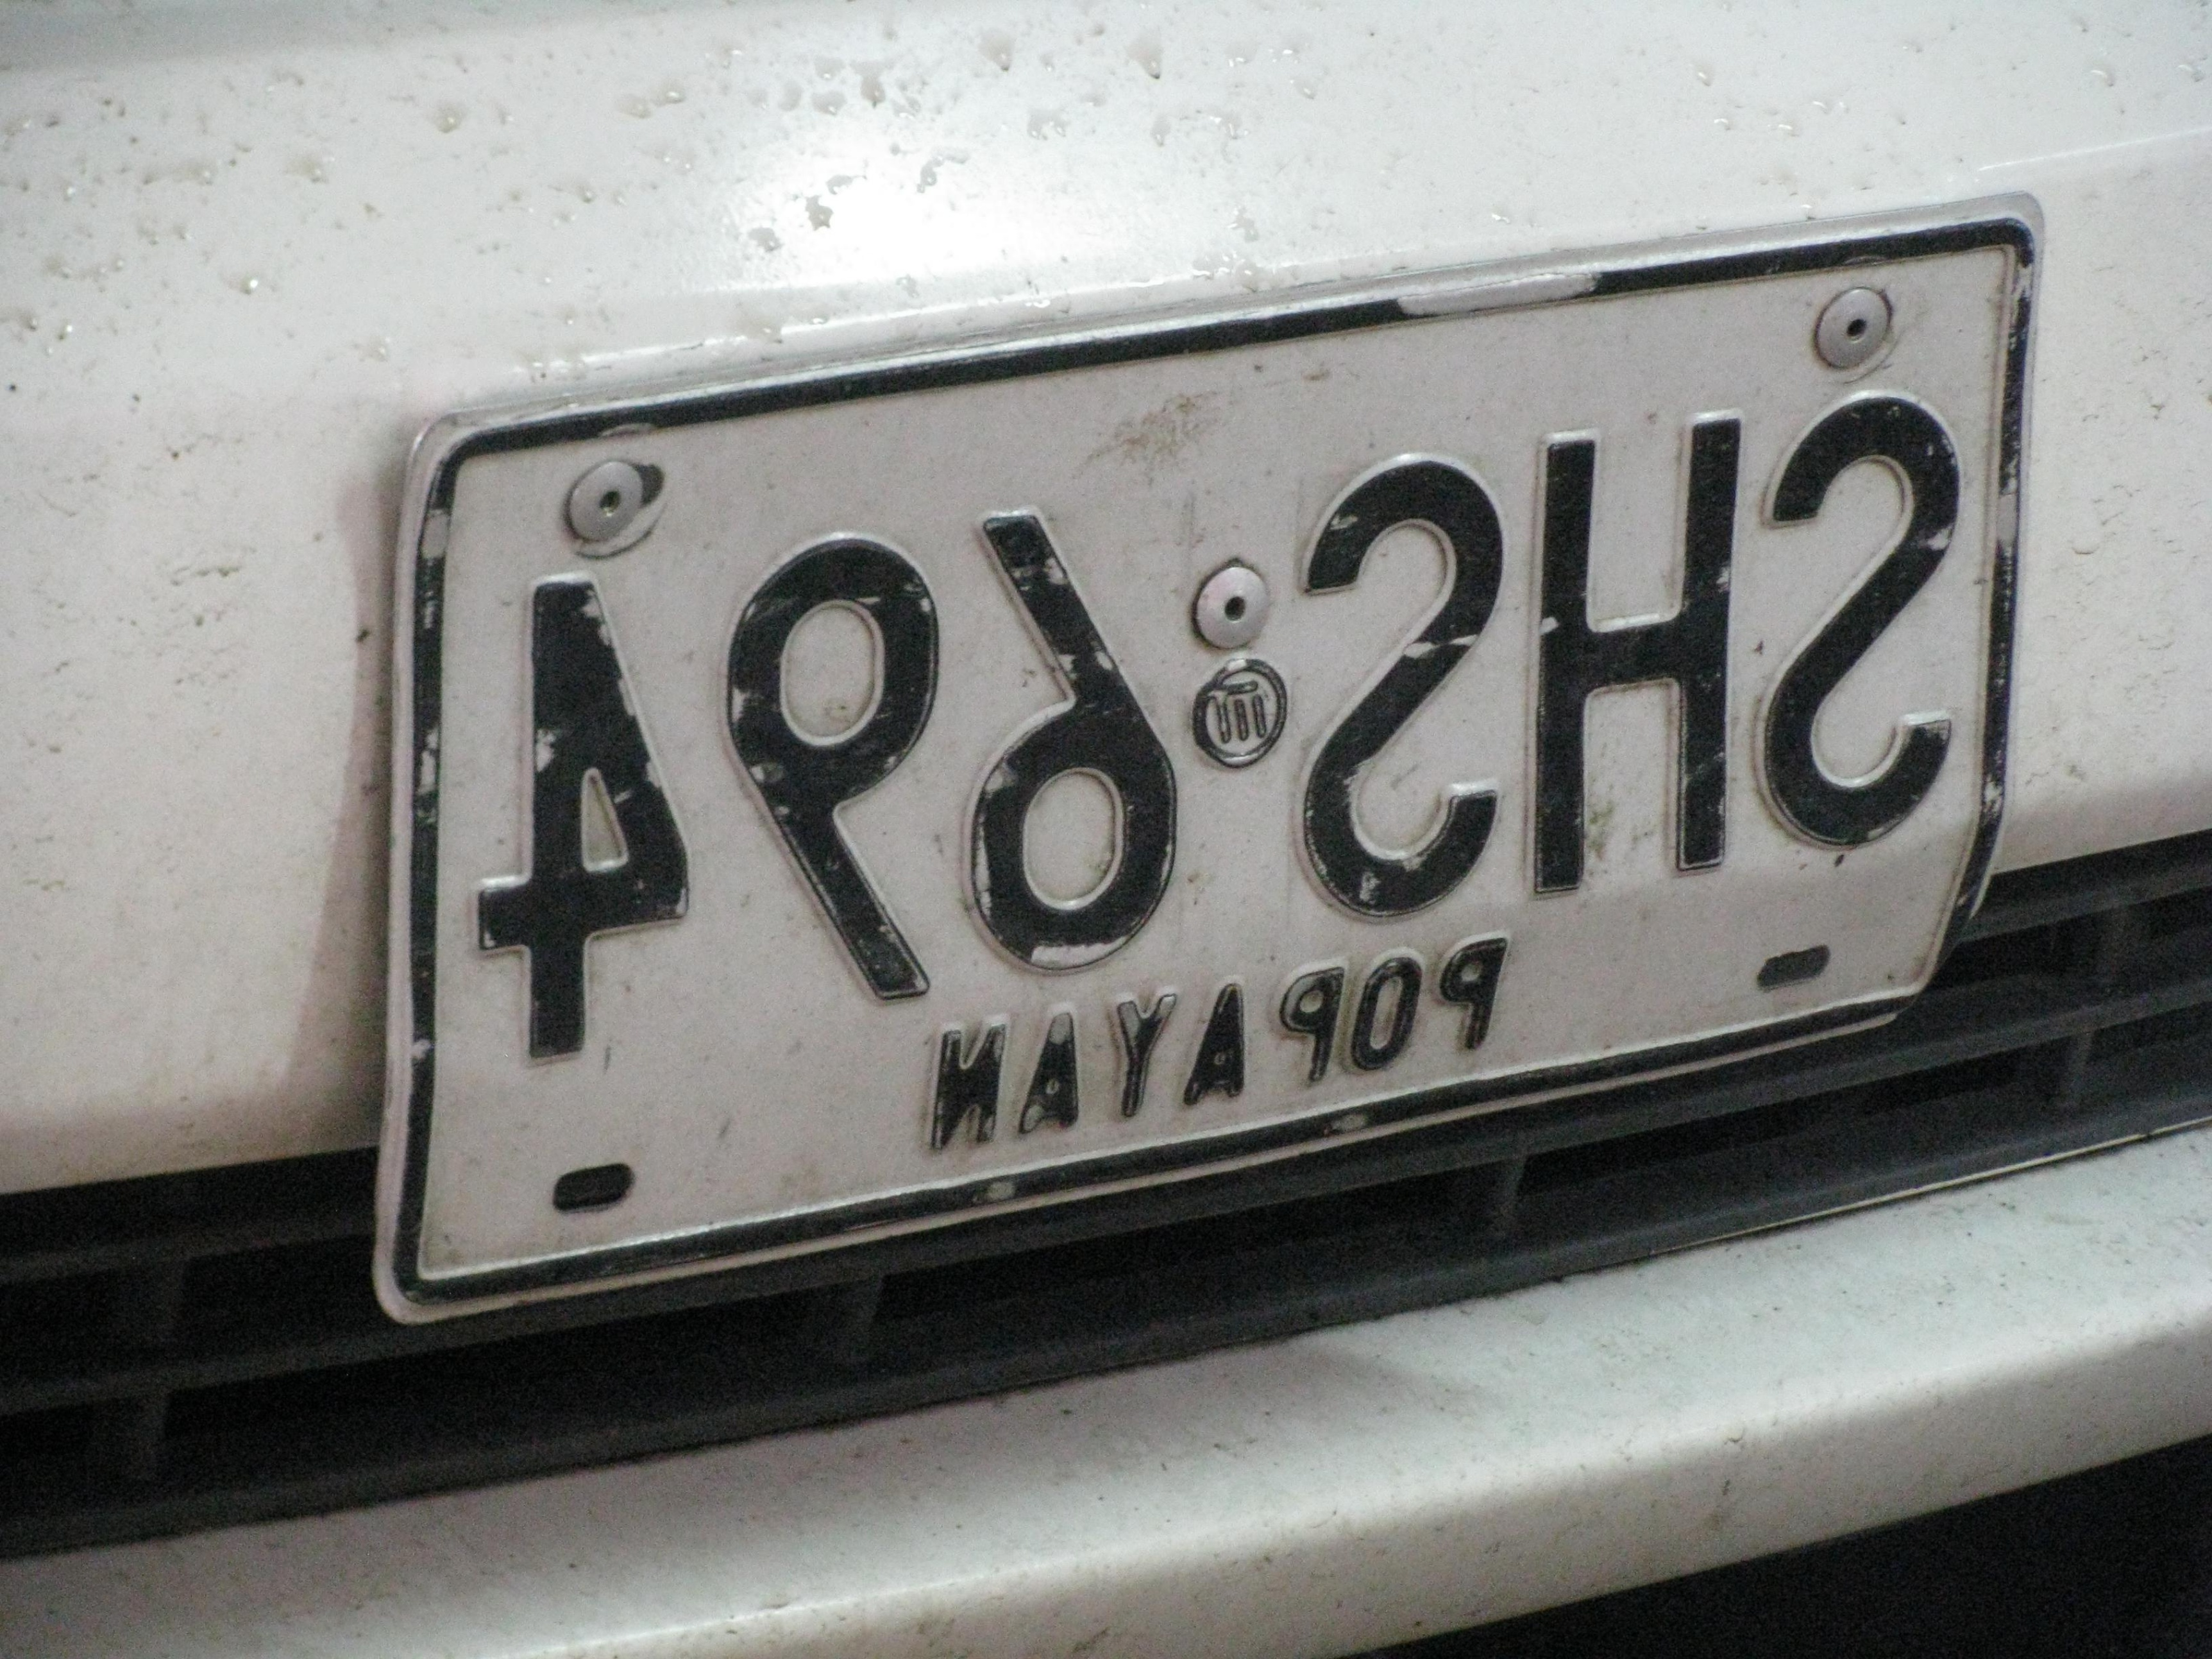placas: (367, 177, 2057, 1331)
